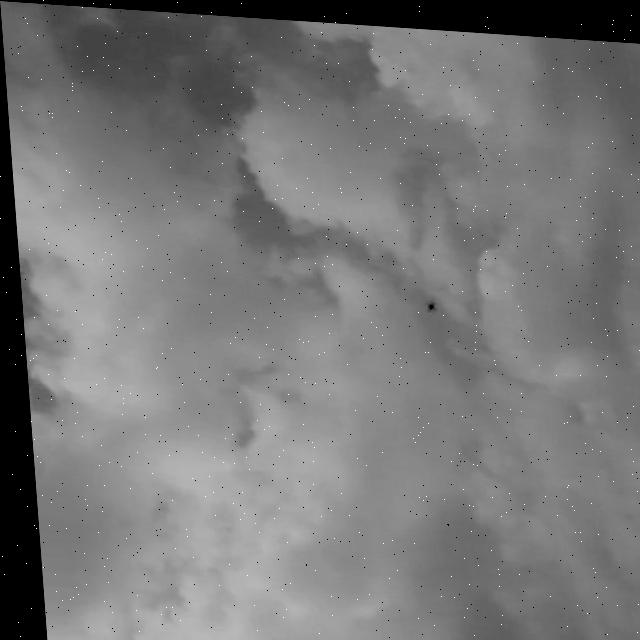drone: (412, 293, 434, 308)
